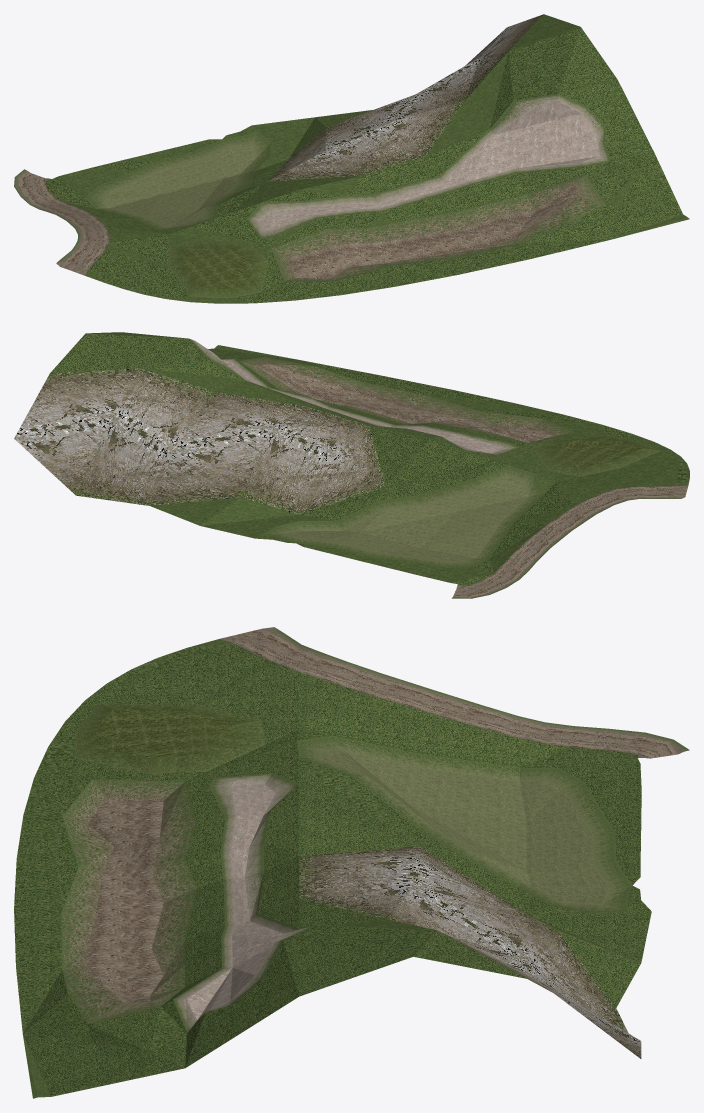
Rendered from lodcuntw27.obj.
3 renders of one model, top to bottom at view 1: azimuth 30°, elevation 25°; view 2: azimuth 150°, elevation 25°; view 3: azimuth 270°, elevation 25°, orthographic. The views are drawn at different scales.
Visible parts, largest first — view 1: lodcuntw27; view 2: lodcuntw27; view 3: lodcuntw27.
Boxes of the visible parts, x1,y1,x2,y2 form: lodcuntw27: [14, 14, 689, 303]; lodcuntw27: [14, 332, 689, 598]; lodcuntw27: [14, 627, 689, 1098].
Size of the model in its own units: 281 by 47.88 by 187.
12 materials, 12 textured.
